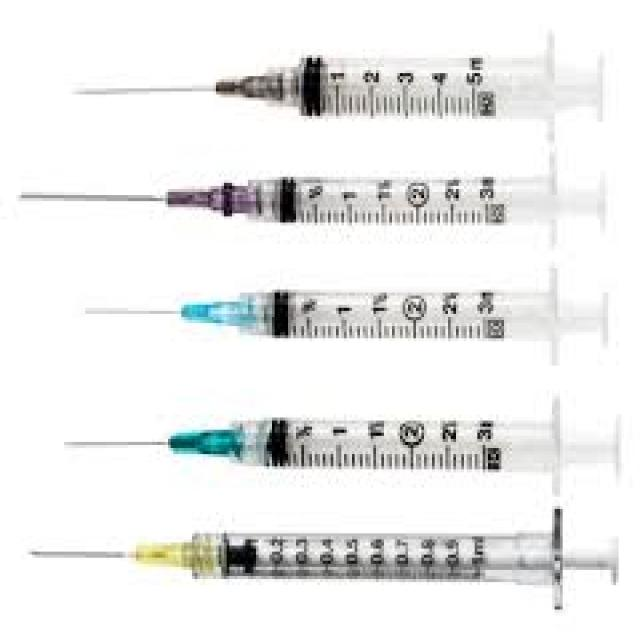syringe: (26, 506, 618, 609), (70, 27, 606, 122), (61, 399, 624, 478), (16, 170, 605, 226), (83, 284, 605, 342)
